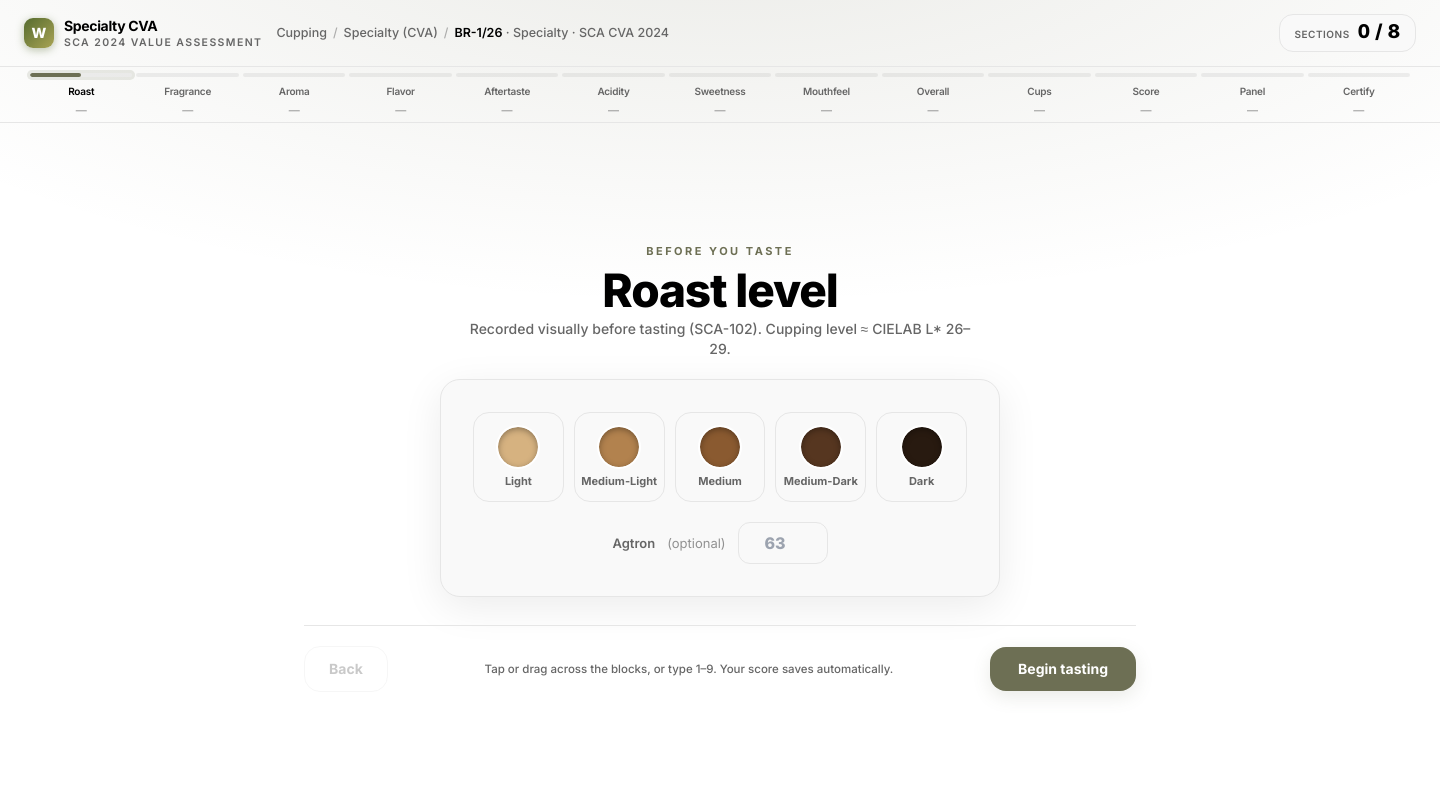
CvaJourney requires_descriptors reveal soft-gate › the live-score pill jump into the score step raises the gate
Step 1. Click the button "Sections 0 / 8" → click(1347, 33), box left=1279, top=14, right=1416, bottom=52
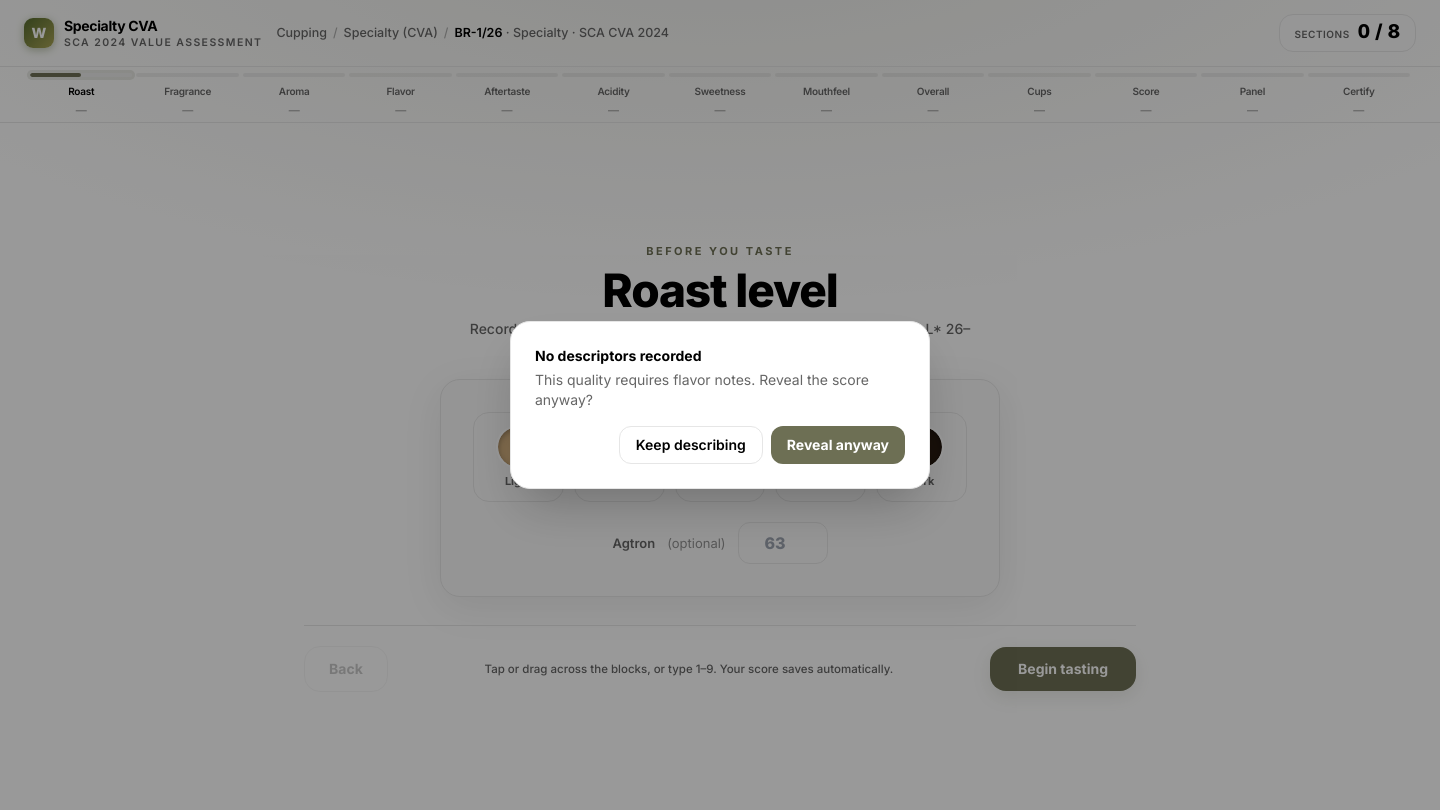
Result: the heading "No descriptors recorded" is shown at left=535, top=347, right=702, bottom=364
